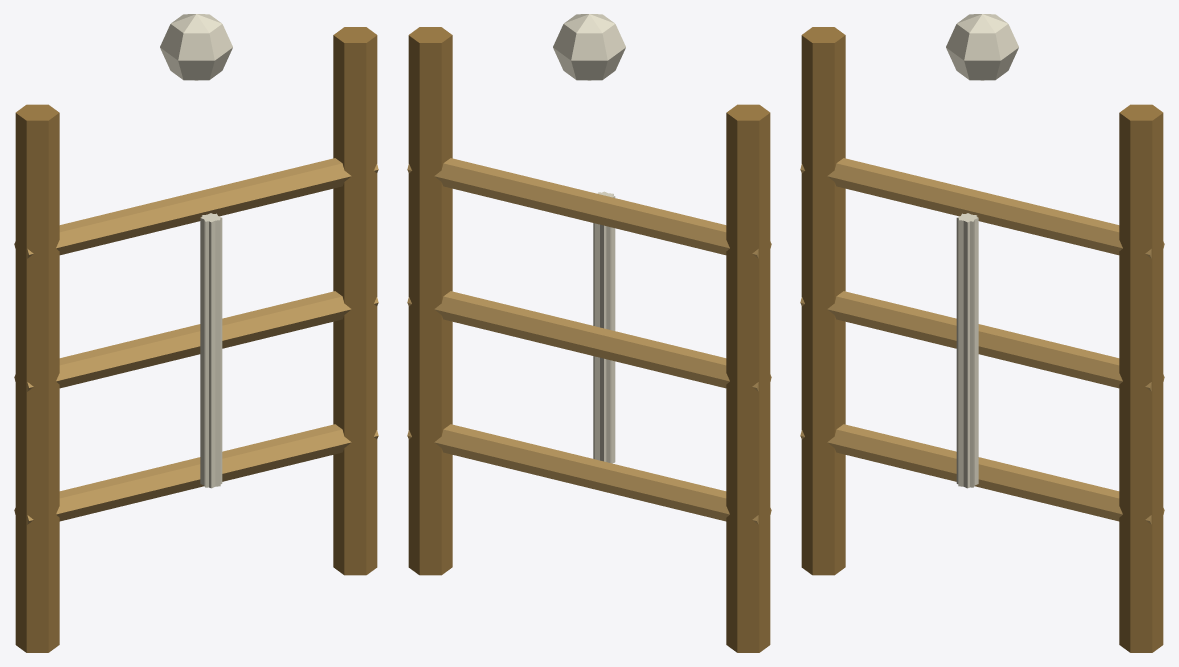
File: armory.dae
3 renders of one model, left to right at view 1: azimuth 30°, elevation 25°; view 2: azimuth 150°, elevation 25°; view 3: azimuth 330°, elevation 25°, orthographic.
Parts seen in each view (by area): view 1: Cylinder, Cylinder.001, Cylinder.004, Cylinder.002, Cylinder.003, Cylinder.006, Sphere, Cylinder.005; view 2: Cylinder, Cylinder.001, Cylinder.002, Cylinder.004, Cylinder.003, Sphere, Cylinder.005, Cylinder.006; view 3: Cylinder.001, Cylinder, Cylinder.004, Cylinder.002, Cylinder.003, Cylinder.005, Sphere, Cylinder.006.
Part boxes in pixels (x1,y1,x2,y2): Cylinder: (15,104,59,652); Cylinder.001: (333,27,377,575); Cylinder.004: (14,158,378,258); Cylinder.002: (14,424,378,524); Cylinder.003: (14,291,378,391); Cylinder.006: (200,213,222,488); Sphere: (160,14,232,80); Cylinder.005: (201,213,220,487); Cylinder: (726,104,770,652); Cylinder.001: (408,27,452,575); Cylinder.002: (407,424,771,524); Cylinder.004: (407,158,771,258); Cylinder.003: (407,291,771,391); Sphere: (553,14,625,80); Cylinder.005: (593,191,615,463); Cylinder.006: (594,192,613,462); Cylinder.001: (1119,104,1163,652); Cylinder: (801,27,845,575); Cylinder.004: (800,158,1164,258); Cylinder.002: (800,424,1164,524); Cylinder.003: (800,291,1164,391); Cylinder.005: (956,213,978,488); Sphere: (946,14,1018,80); Cylinder.006: (958,213,977,487).
Size of the model in its own units: 110 by 20.63 by 178.
